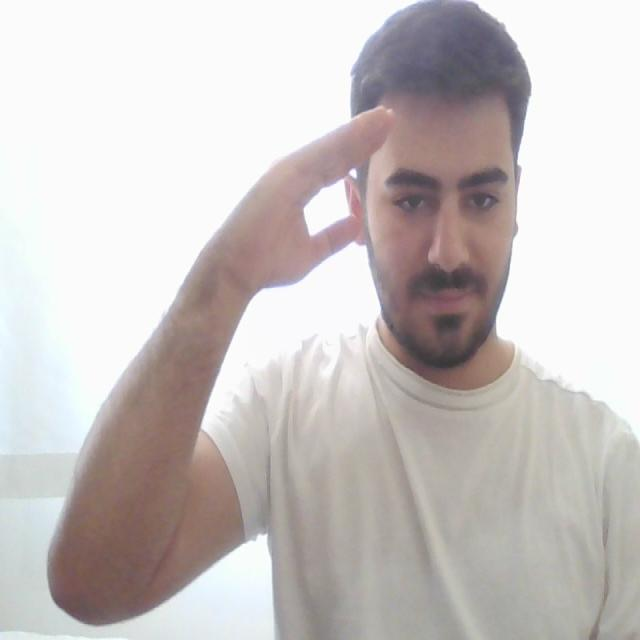Merhaba: (224, 70, 430, 333)
